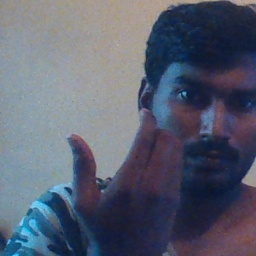U: (63, 106, 192, 241)
